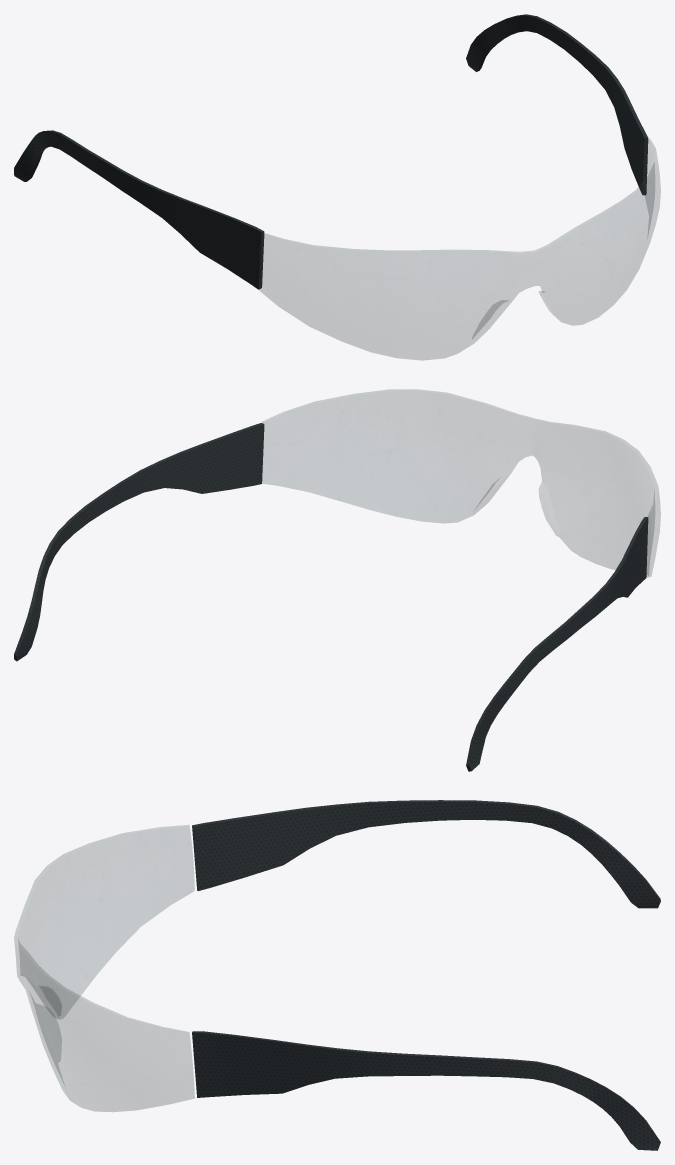
The model's file is Glasses01.glb.
The picture shows the model from 3 angles, top to bottom: view 1: azimuth 30°, elevation 25°; view 2: azimuth 150°, elevation 25°; view 3: azimuth 270°, elevation 25°; orthographic projection. The views are drawn at different scales.
Visible parts, largest first — view 1: Glasses01_Geo; view 2: Glasses01_Geo; view 3: Glasses01_Geo.
Boxes of the visible parts, box(x1,y1,x2,y2) form: Glasses01_Geo: box(14, 14, 660, 360); Glasses01_Geo: box(14, 389, 660, 771); Glasses01_Geo: box(14, 800, 660, 1150).
Bounding box in the file's own units: 0.1632 × 0.039 × 0.1727.
Materials: 1 (1 with a texture image).
